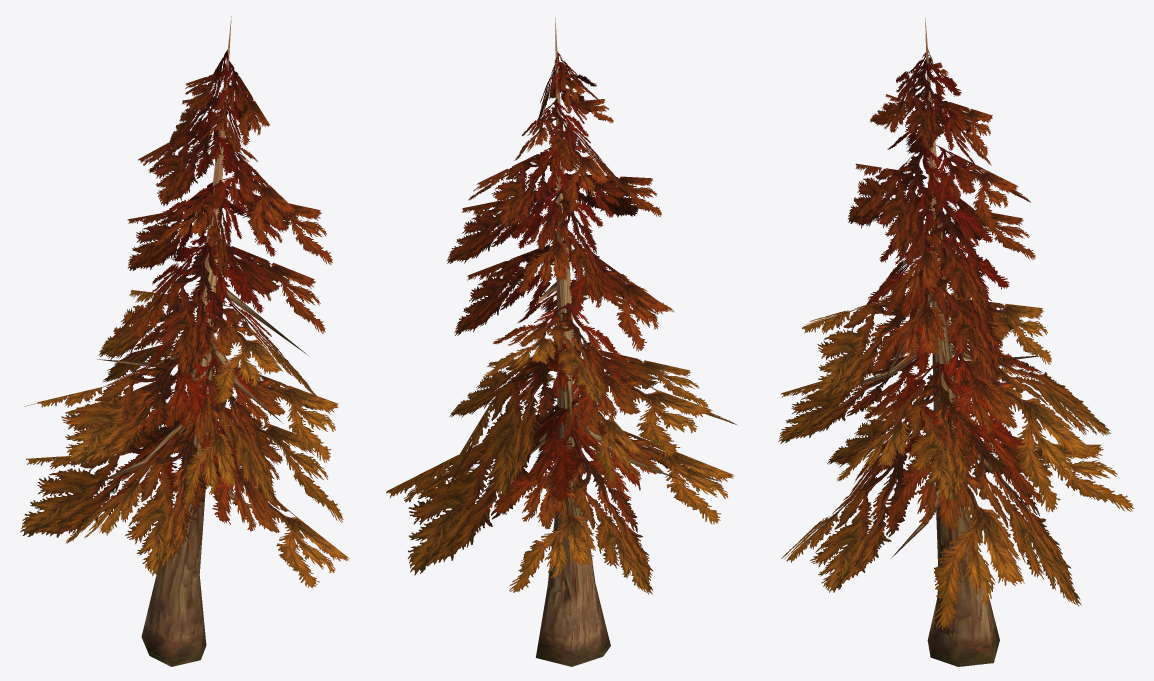
The model's file is environment_Tree_songshu_001_c.FBX.
3 renders of one model, left to right at view 1: azimuth 30°, elevation 25°; view 2: azimuth 150°, elevation 25°; view 3: azimuth 270°, elevation 25°, orthographic. The views are drawn at different scales.
Parts seen in each view (by area): view 1: environment_Tree_songshu_001_c02, environment_Tree_songshu_001_c01, environment_Tree_songshu_001_c03; view 2: environment_Tree_songshu_001_c02, environment_Tree_songshu_001_c01, environment_Tree_songshu_001_c03; view 3: environment_Tree_songshu_001_c02, environment_Tree_songshu_001_c01, environment_Tree_songshu_001_c03.
Part boxes in pixels (x1,y1,x2,y2): environment_Tree_songshu_001_c02: [20, 290, 349, 588]; environment_Tree_songshu_001_c01: [111, 50, 332, 376]; environment_Tree_songshu_001_c03: [87, 16, 306, 666]; environment_Tree_songshu_001_c02: [386, 274, 736, 594]; environment_Tree_songshu_001_c01: [446, 51, 669, 351]; environment_Tree_songshu_001_c03: [475, 17, 682, 666]; environment_Tree_songshu_001_c02: [778, 290, 1134, 629]; environment_Tree_songshu_001_c01: [847, 48, 1035, 380]; environment_Tree_songshu_001_c03: [821, 18, 1039, 666].
Size of the model in its own units: 257 by 499 by 251.
